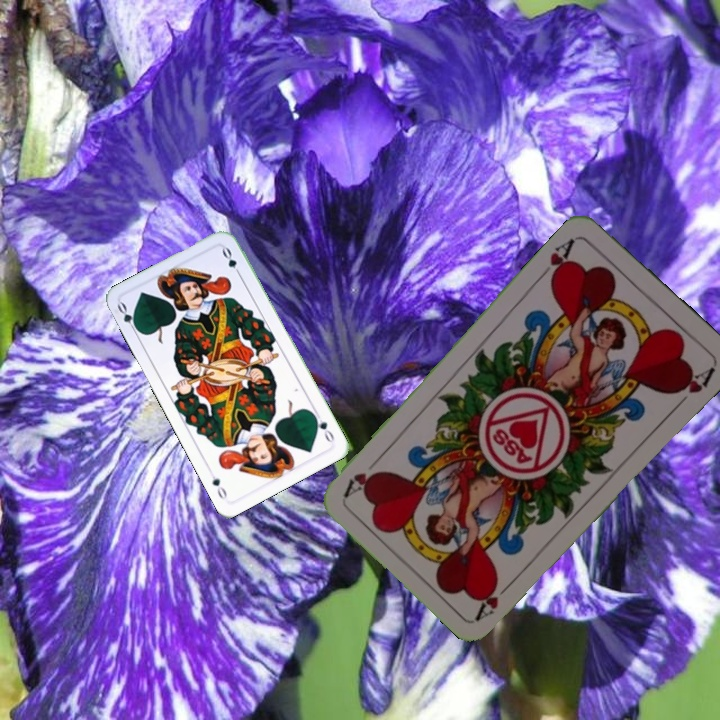GO: (113, 298, 142, 337), (309, 408, 337, 446)
HA: (535, 233, 578, 287), (472, 574, 519, 622)
